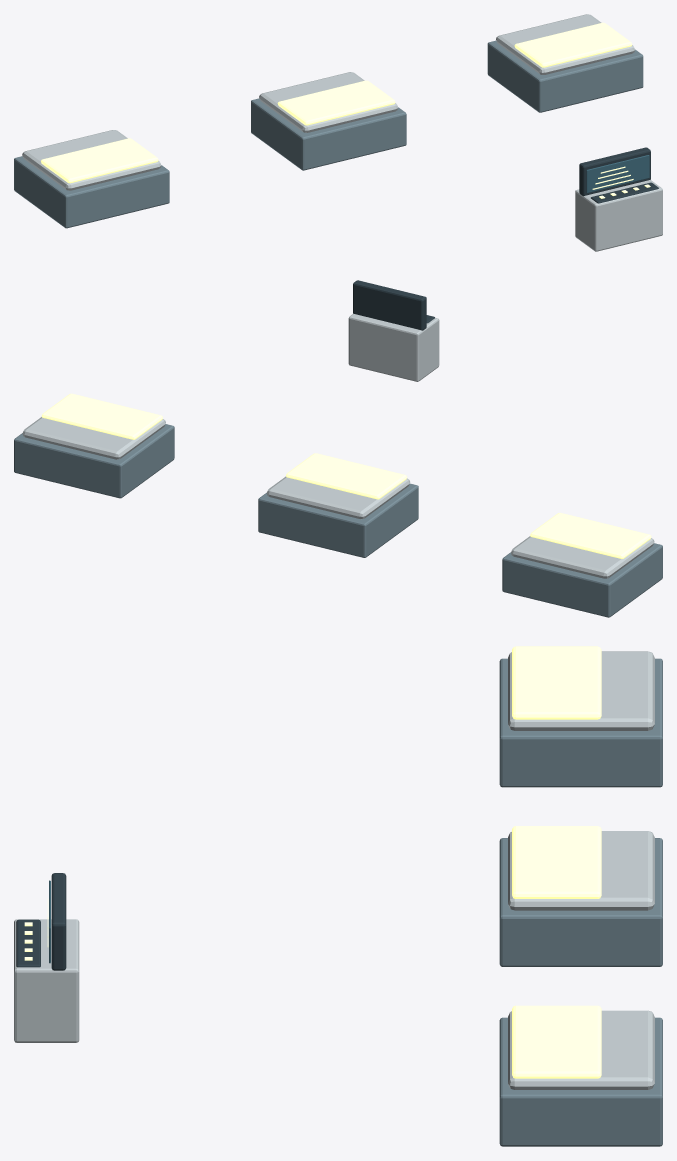
The model's file is habitat-interior.glb.
The picture shows the model from 3 angles, top to bottom: view 1: azimuth 30°, elevation 25°; view 2: azimuth 150°, elevation 25°; view 3: azimuth 270°, elevation 25°; orthographic projection. The views are drawn at different scales.
Visible parts, largest first — view 1: Furniture_Steel, Furniture_Ivory, Furniture_Accent, Furniture_Dark, Furniture_Glass; view 2: Furniture_Steel, Furniture_Ivory, Furniture_Accent, Furniture_Dark; view 3: Furniture_Steel, Furniture_Ivory, Furniture_Accent, Furniture_Dark.
Boxes of the visible parts, <box> form: Furniture_Steel: <box>14,40,643,228</box>; Furniture_Ivory: <box>22,14,662,251</box>; Furniture_Accent: <box>41,22,650,198</box>; Furniture_Dark: <box>579,147,658,203</box>; Furniture_Glass: <box>586,155,649,193</box>; Furniture_Steel: <box>14,424,662,617</box>; Furniture_Ivory: <box>22,314,654,578</box>; Furniture_Accent: <box>41,393,651,558</box>; Furniture_Dark: <box>353,280,434,330</box>; Furniture_Steel: <box>499,658,662,1146</box>; Furniture_Ivory: <box>14,651,654,1089</box>; Furniture_Accent: <box>24,646,601,1078</box>; Furniture_Dark: <box>16,873,66,970</box>.
Bounding box in the file's own units: 12.71 × 1.62 × 7.95.
